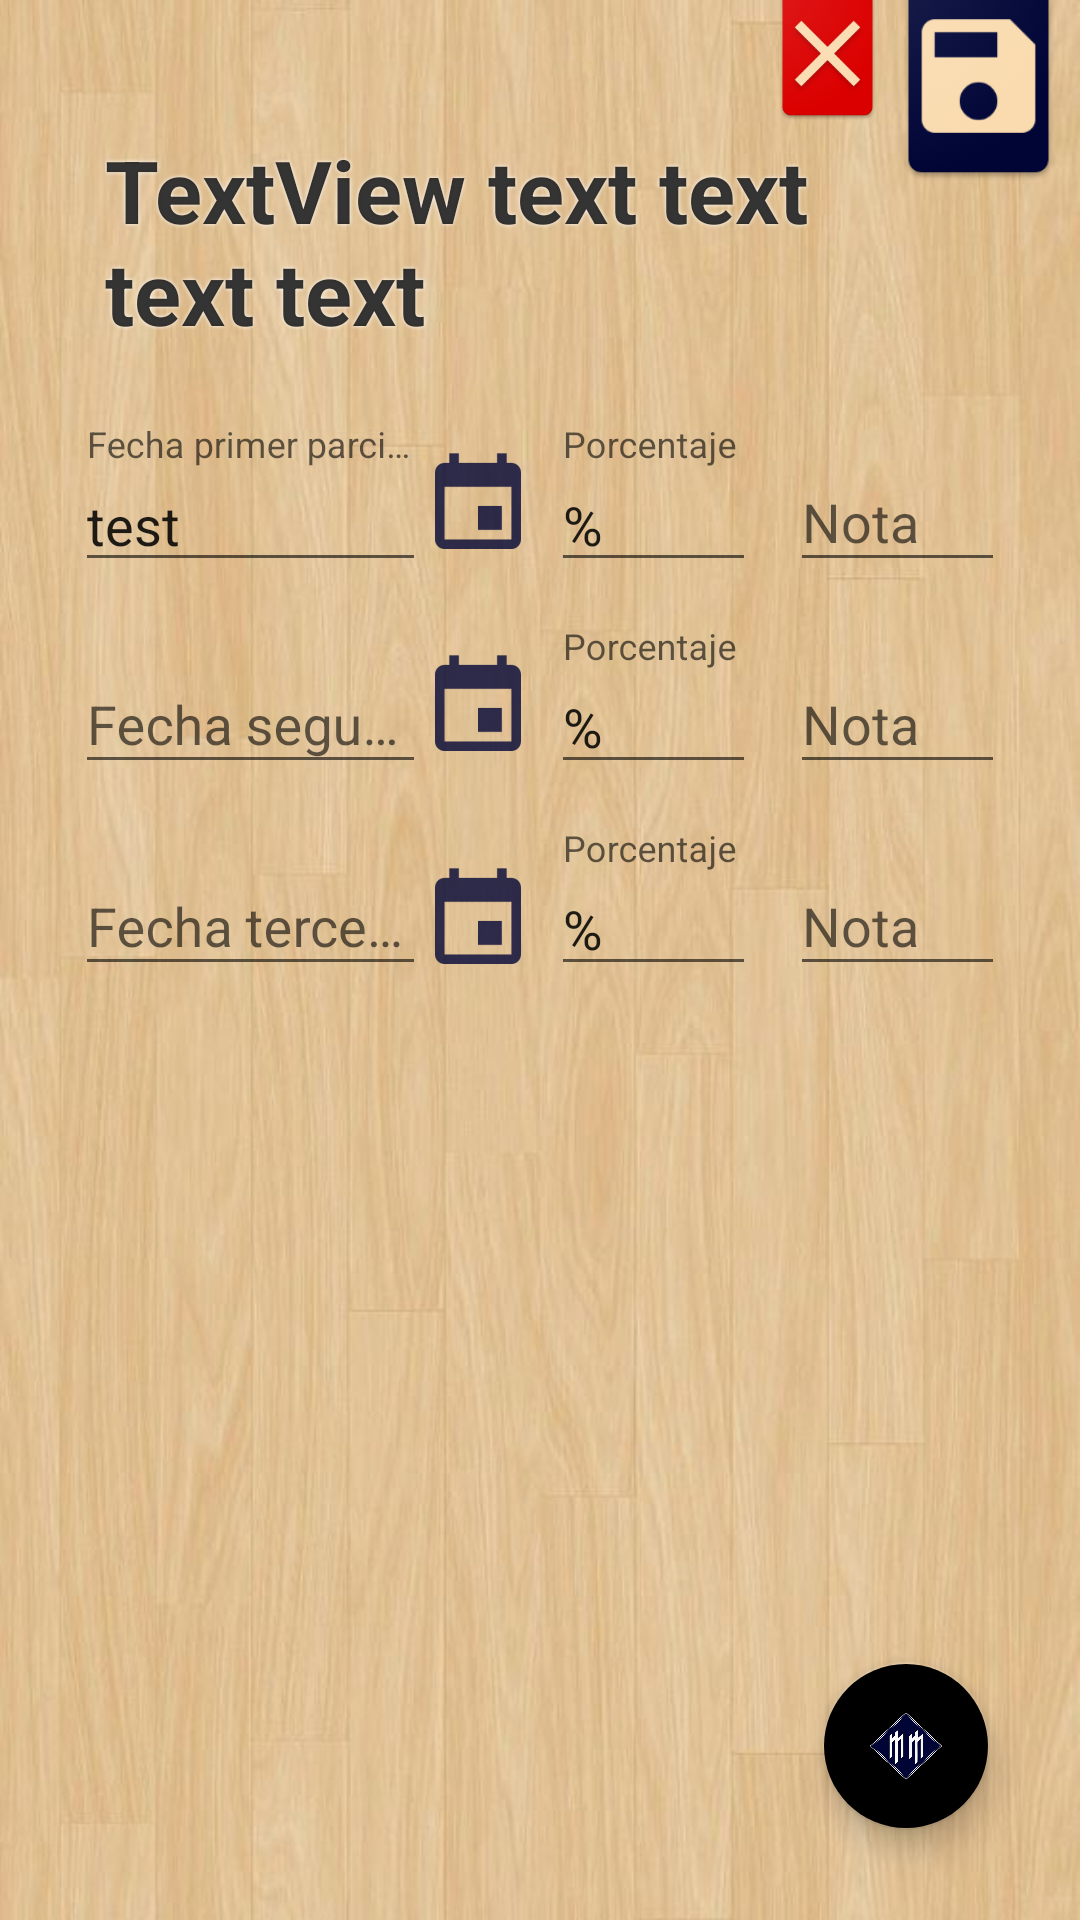

Where icons sit on this 1080 x 1920 app screen, as (x1, y1, x2, y2):
calendar: (435, 453, 521, 549), (435, 655, 521, 751), (435, 868, 521, 964)
